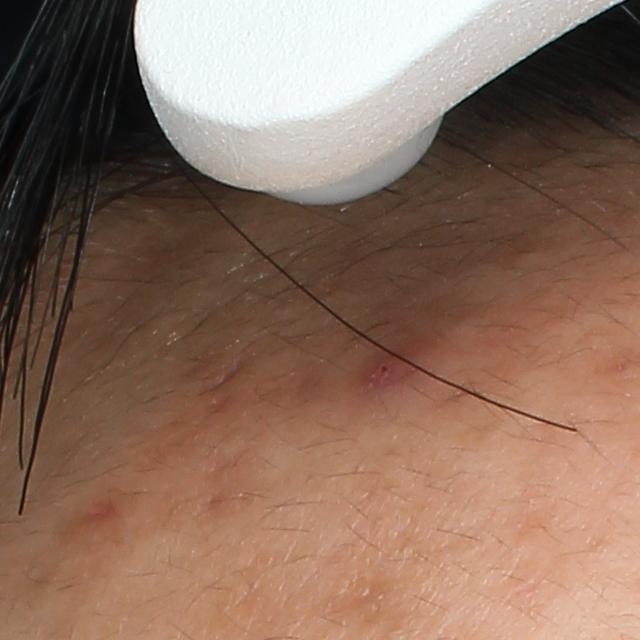papule: (361, 352, 407, 388)
